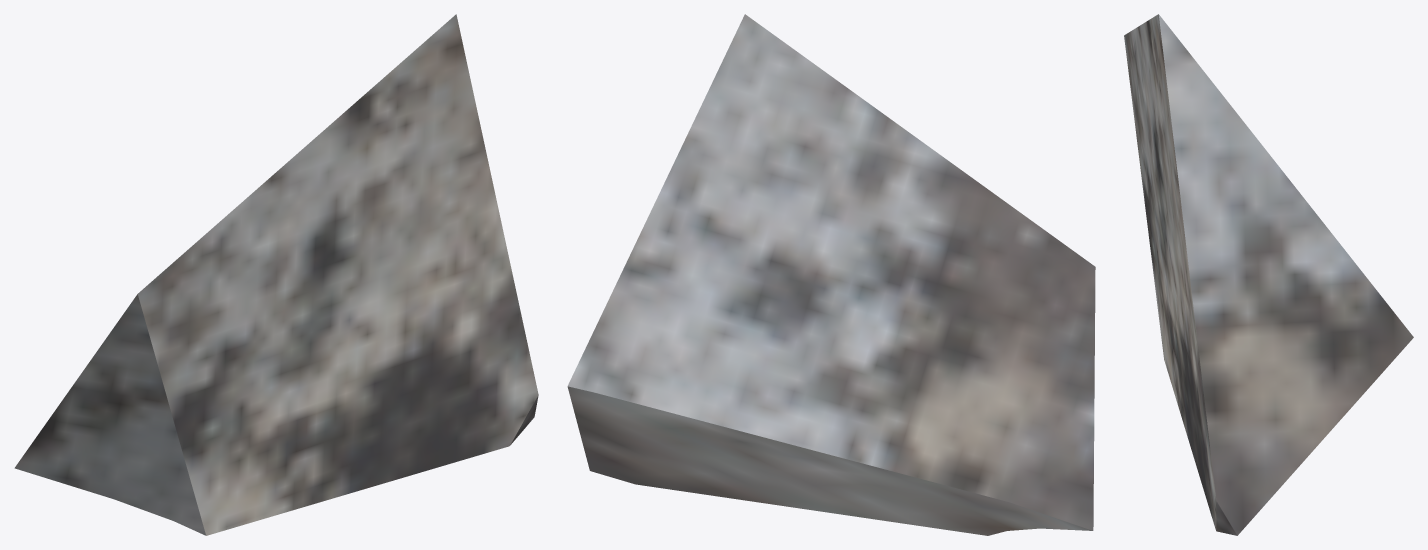
File: Asteroid_Medium_001_02_003_03_001.fbx
3 views of the same model, side by side, from view 1: azimuth 30°, elevation 25°; view 2: azimuth 150°, elevation 25°; view 3: azimuth 270°, elevation 25° (orthographic).
Visible parts, largest first — view 1: Asteroid_Medium_001_02_003_03_001; view 2: Asteroid_Medium_001_02_003_03_001; view 3: Asteroid_Medium_001_02_003_03_001.
Boxes of the visible parts, left/top/right/bottom form: Asteroid_Medium_001_02_003_03_001: left=14, top=14, right=538, bottom=535; Asteroid_Medium_001_02_003_03_001: left=567, top=14, right=1095, bottom=535; Asteroid_Medium_001_02_003_03_001: left=1124, top=14, right=1413, bottom=535.
Size of the model in its own units: 2.4 by 2.11 by 1.16.
